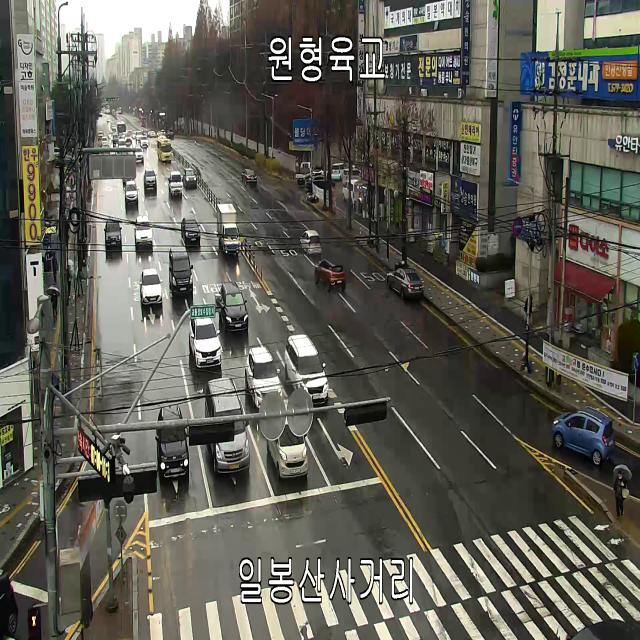Bus: (157, 136, 172, 162), (117, 122, 126, 135)
Car: (205, 378, 250, 474), (552, 406, 615, 466), (267, 399, 308, 479), (284, 334, 329, 405), (155, 404, 189, 480), (245, 345, 283, 408), (189, 317, 222, 369), (218, 282, 248, 332), (0, 568, 19, 635), (386, 267, 424, 300), (168, 246, 194, 294), (315, 259, 345, 291), (139, 268, 163, 305), (300, 230, 322, 256), (342, 179, 362, 206), (134, 216, 153, 244), (181, 216, 201, 242), (104, 221, 122, 247), (296, 161, 314, 186), (124, 180, 140, 203), (342, 169, 362, 186), (306, 173, 328, 187), (143, 168, 157, 190), (241, 168, 257, 186), (183, 168, 197, 188), (332, 162, 344, 182), (313, 167, 328, 179), (134, 147, 144, 161), (140, 136, 148, 148), (97, 130, 104, 142), (166, 129, 174, 139), (136, 131, 142, 143), (348, 164, 360, 169), (149, 130, 156, 138), (132, 131, 136, 139), (112, 125, 116, 131)
Truck: (217, 202, 239, 254), (168, 170, 183, 193)
